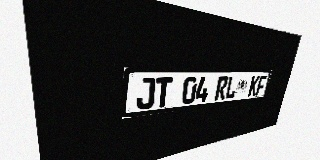0: (181, 76, 198, 105)
4: (195, 76, 210, 103)
F: (255, 75, 267, 96)
J: (136, 77, 156, 110)
K: (247, 75, 260, 97)
L: (225, 76, 238, 100)
R: (214, 76, 229, 101)
T: (154, 77, 173, 108)
